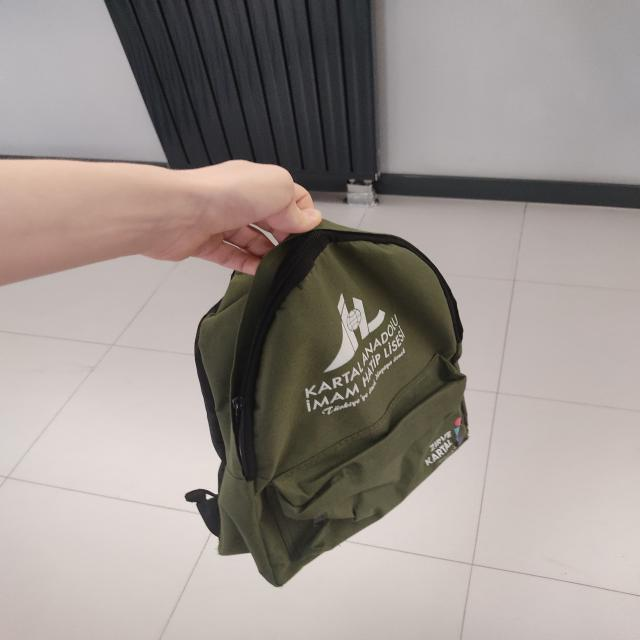bag: (181, 230, 468, 575)
